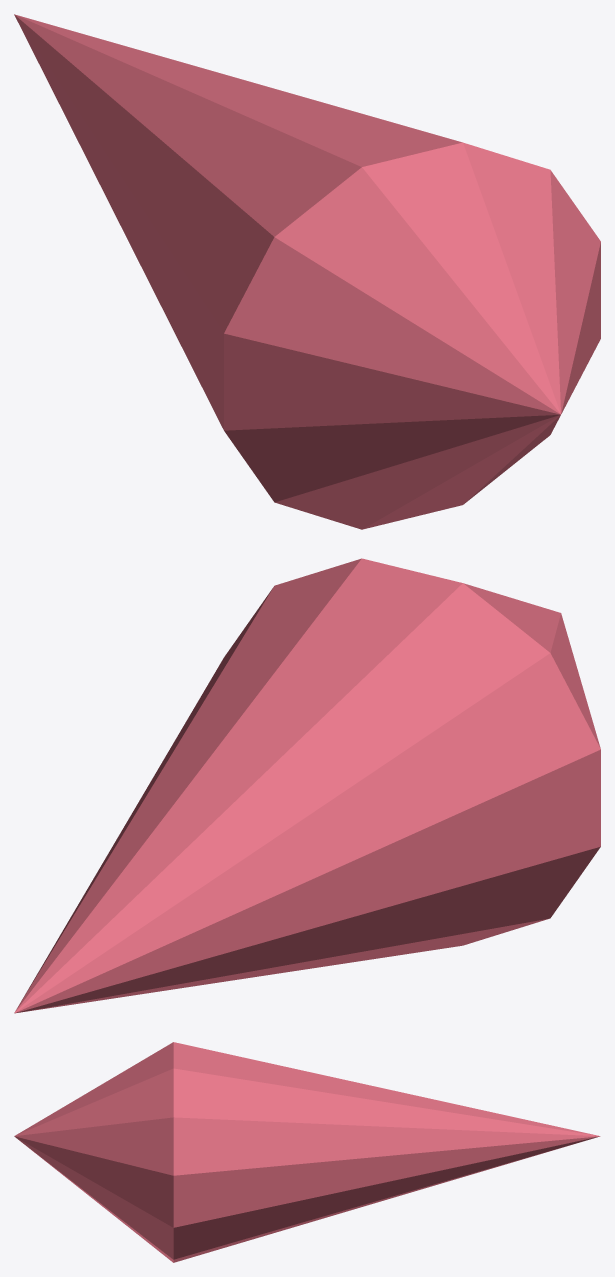
File: muzzleflash.gltf
3 renders of one model, top to bottom at view 1: azimuth 30°, elevation 25°; view 2: azimuth 150°, elevation 25°; view 3: azimuth 270°, elevation 25°, orthographic. The views are drawn at different scales.
Visible parts, largest first — view 1: cone; view 2: cone; view 3: cone.
Part boxes in pixels (<box>): cone: <box>14,14,600,529</box>; cone: <box>14,558,600,1013</box>; cone: <box>14,1042,600,1262</box>.
Size of the model in its own units: 2.31 by 2.12 by 5.81.
1 material, 1 textured.
